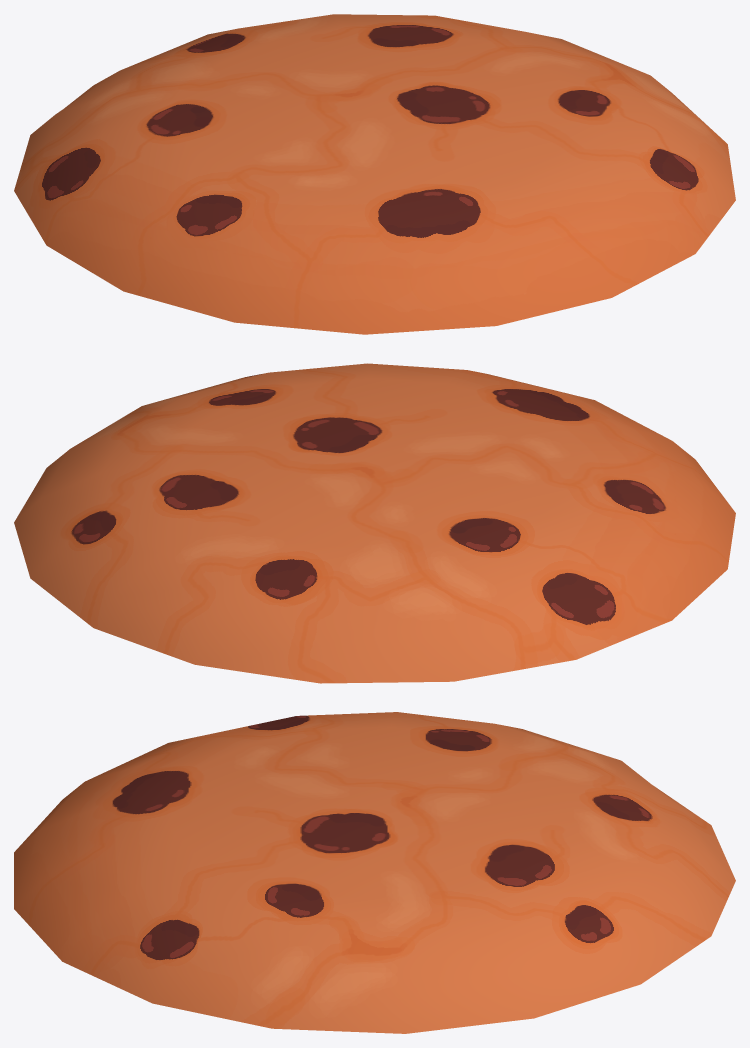
Rendered from Cookie.FBX.
The picture shows the model from 3 angles, top to bottom: view 1: azimuth 30°, elevation 25°; view 2: azimuth 150°, elevation 25°; view 3: azimuth 270°, elevation 25°; orthographic projection.
Parts seen in each view (by area): view 1: cookie; view 2: cookie; view 3: cookie.
Boxes of the visible parts, x1,y1,x2,y2 form: cookie: [14, 14, 735, 334]; cookie: [14, 363, 735, 683]; cookie: [14, 712, 735, 1033].
Size of the model in its own units: 0.1397 by 0.0192 by 0.1391.
1 material, 1 textured.
